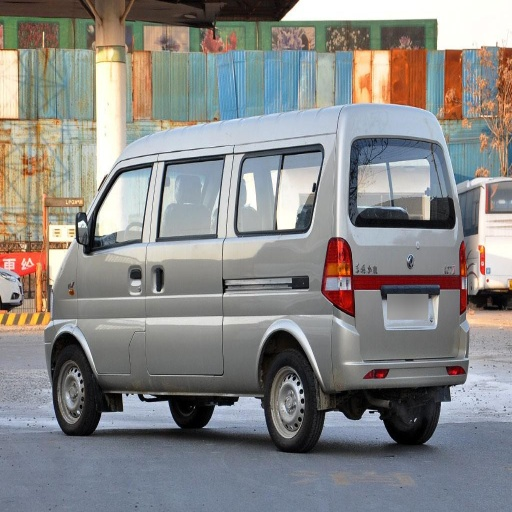back_bumper: (355, 315, 466, 386)
back_glass: (357, 138, 451, 227)
back_left_door: (147, 153, 241, 315)
back_left_light: (322, 240, 352, 314)
back_right_door: (348, 136, 386, 195)
trunk: (116, 228, 461, 387)
